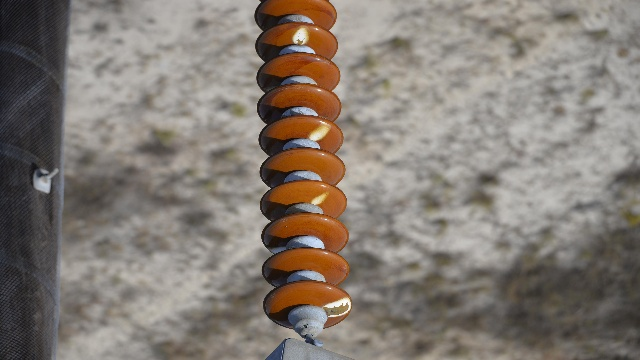insulator_unspecified: (250, 0, 353, 329)
pollution_flashover_local: (324, 297, 354, 319), (306, 121, 333, 142), (291, 26, 312, 46), (309, 195, 329, 207)
